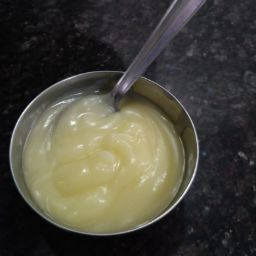Clarified Butter(ghee): (49, 97, 169, 237), (24, 114, 181, 215), (77, 121, 143, 191)
